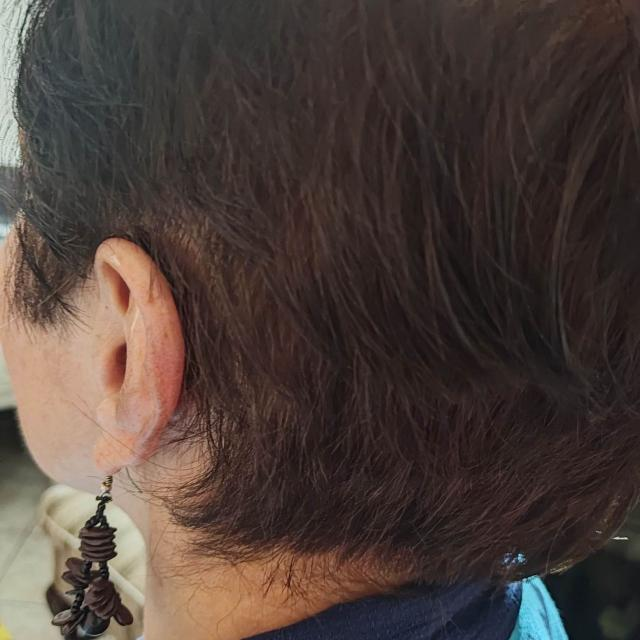ear: (92, 239, 184, 474)
